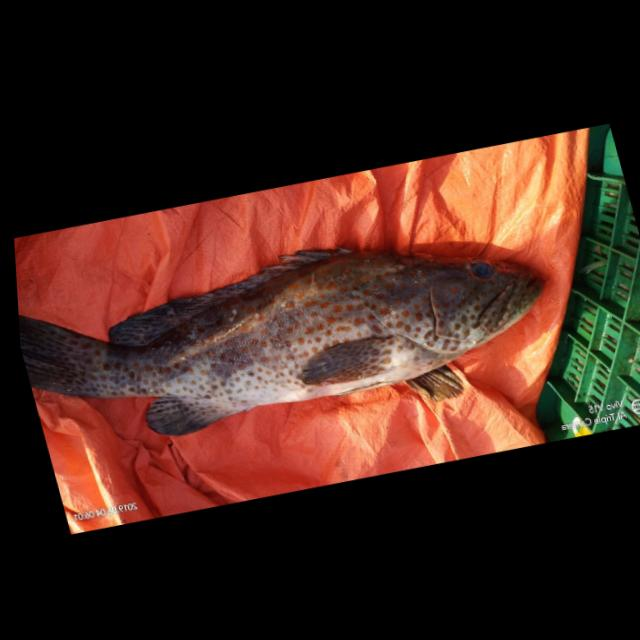Groupers: (11, 192, 577, 486)
